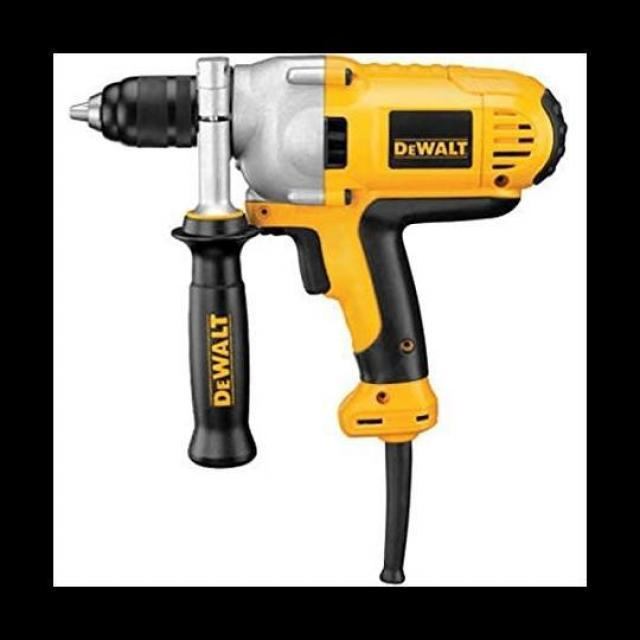drill: (70, 54, 568, 585)
